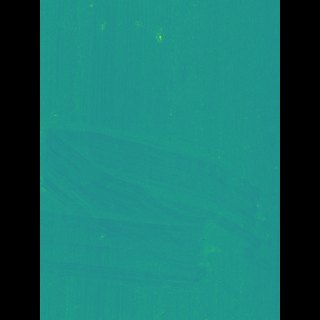Loch: (68, 115, 244, 299)
